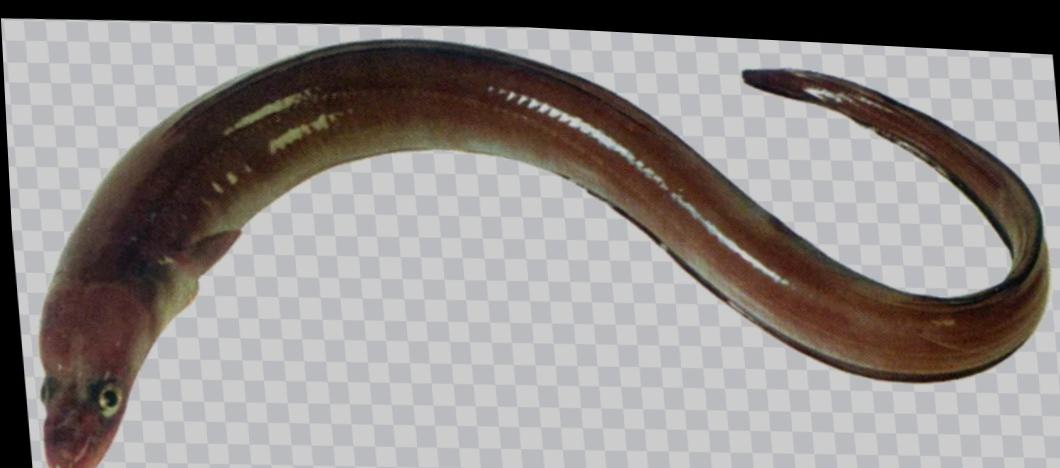fish: (35, 34, 1046, 468)
